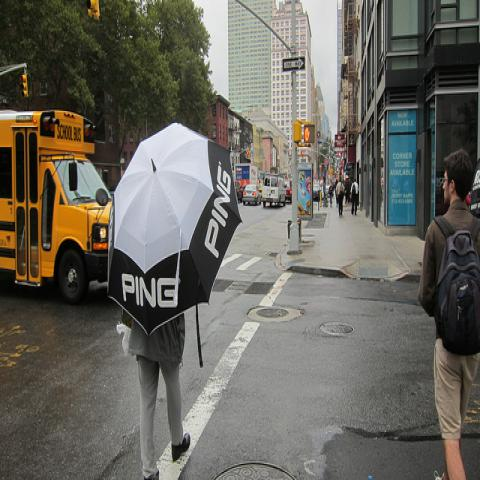bus: (0, 112, 113, 306)
car: (243, 183, 261, 206), (234, 181, 244, 202), (284, 178, 292, 202), (314, 183, 320, 202)
truck: (262, 176, 286, 207), (234, 165, 258, 192)
